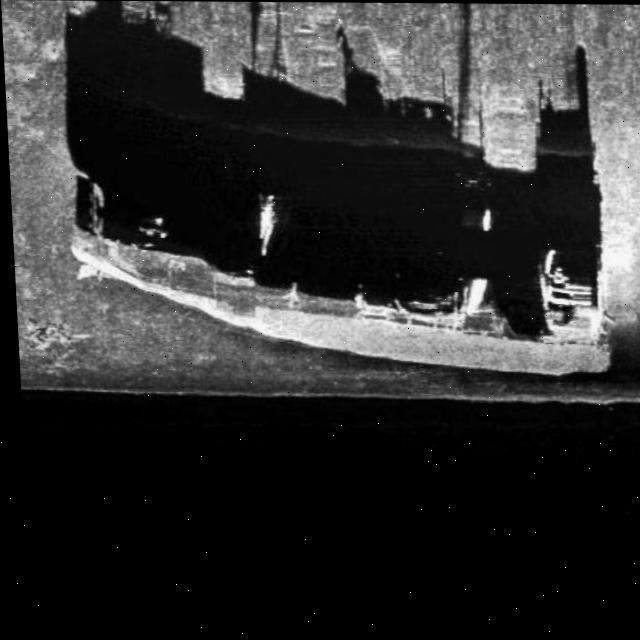shipwreck: (54, 167, 610, 388)
